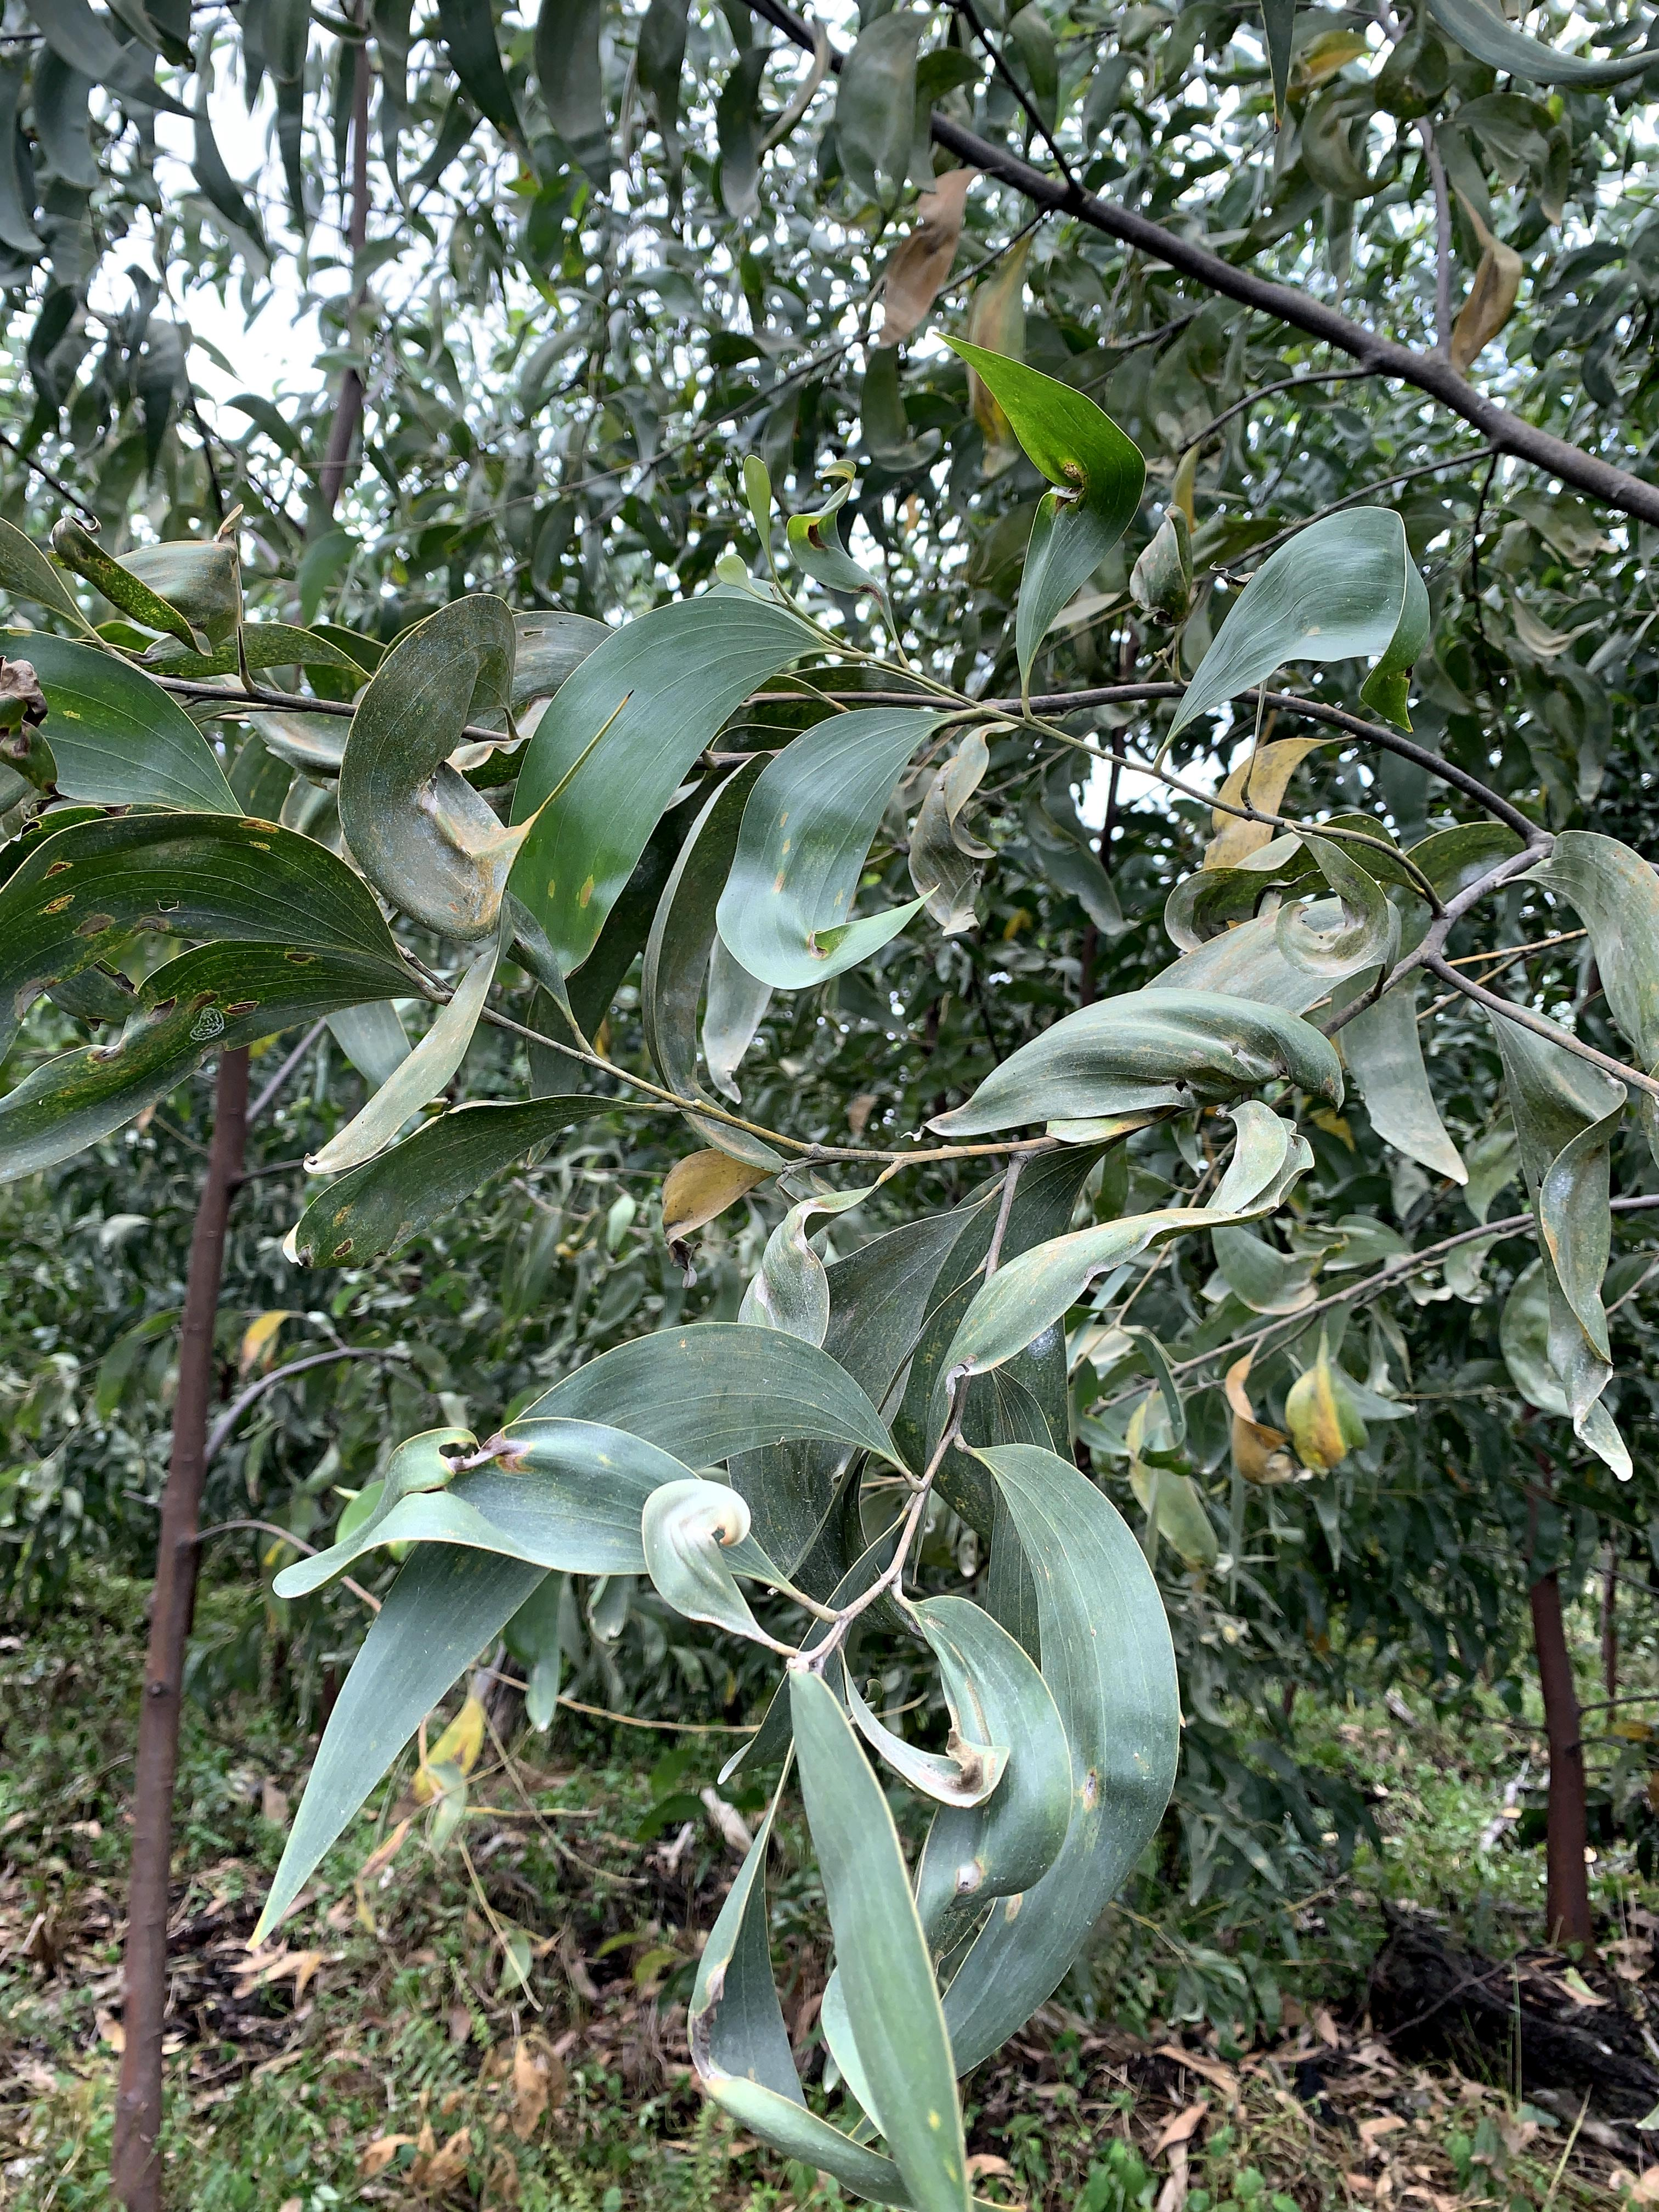Pasalora: (328, 589, 568, 979), (1499, 1024, 1652, 1477), (978, 1024, 1364, 1127), (643, 1475, 769, 1669), (322, 1421, 540, 1512), (868, 1723, 1011, 1813)
